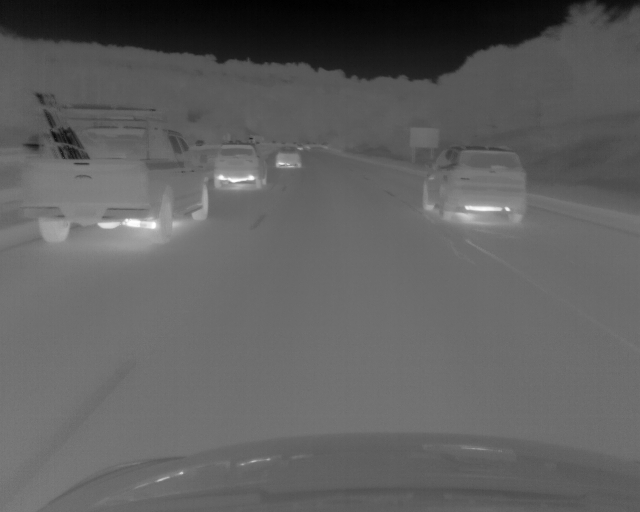car: (18, 91, 211, 246), (420, 145, 528, 224), (214, 142, 265, 188), (274, 144, 301, 168)
